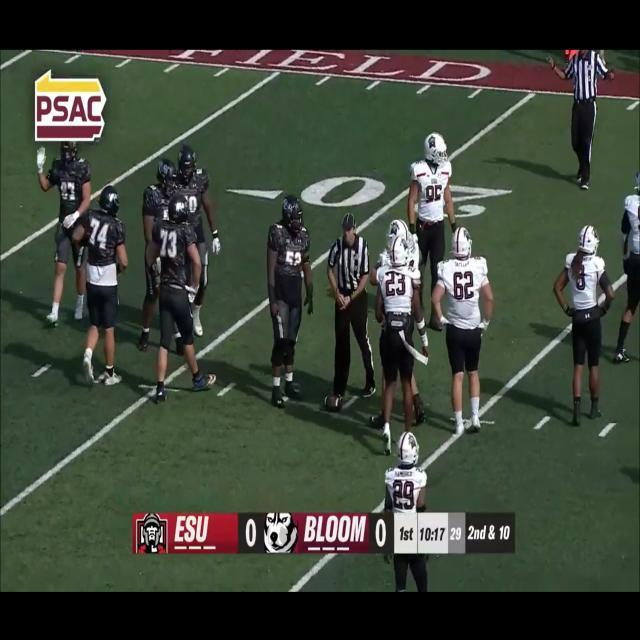football: (320, 390, 346, 418)
